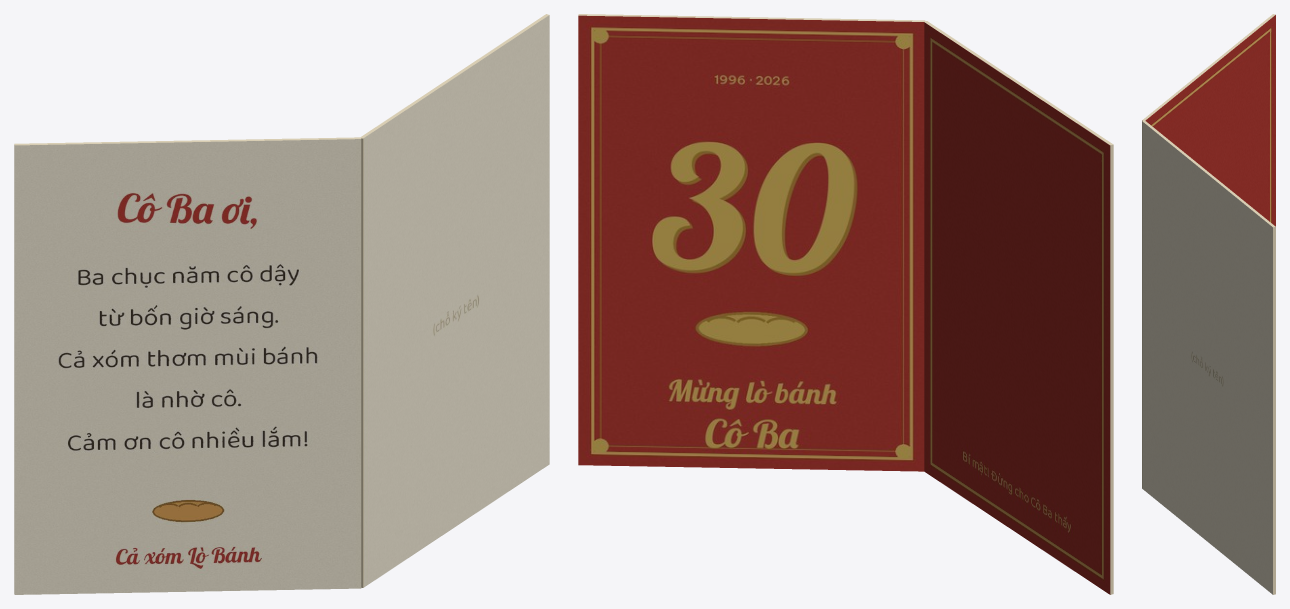
Rendered from thiep_30.glb.
3 views of the same model, side by side, from view 1: azimuth 30°, elevation 25°; view 2: azimuth 150°, elevation 25°; view 3: azimuth 270°, elevation 25° (orthographic). The views are drawn at different scales.
Visible parts, largest first — view 1: Thiep; view 2: Thiep; view 3: Thiep.
Boxes of the visible parts, x1,y1,x2,y2 form: Thiep: (14, 14, 549, 594); Thiep: (578, 14, 1113, 594); Thiep: (1142, 14, 1275, 594).
Bounding box in the file's own units: 0.2491 × 0.2 × 0.0661.
Materials: 4 (3 with a texture image).
